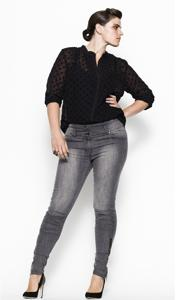C_jeans: (22, 115, 132, 277)
F_heels: (21, 263, 117, 300)
S_blouse: (41, 41, 161, 134)
